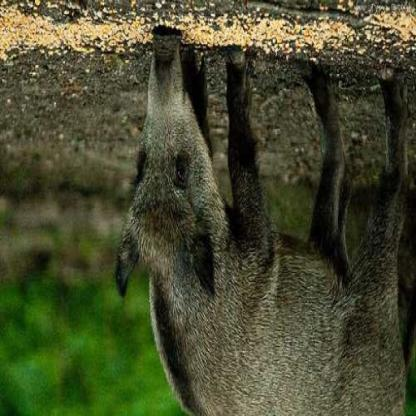boar: (105, 36, 415, 410)
